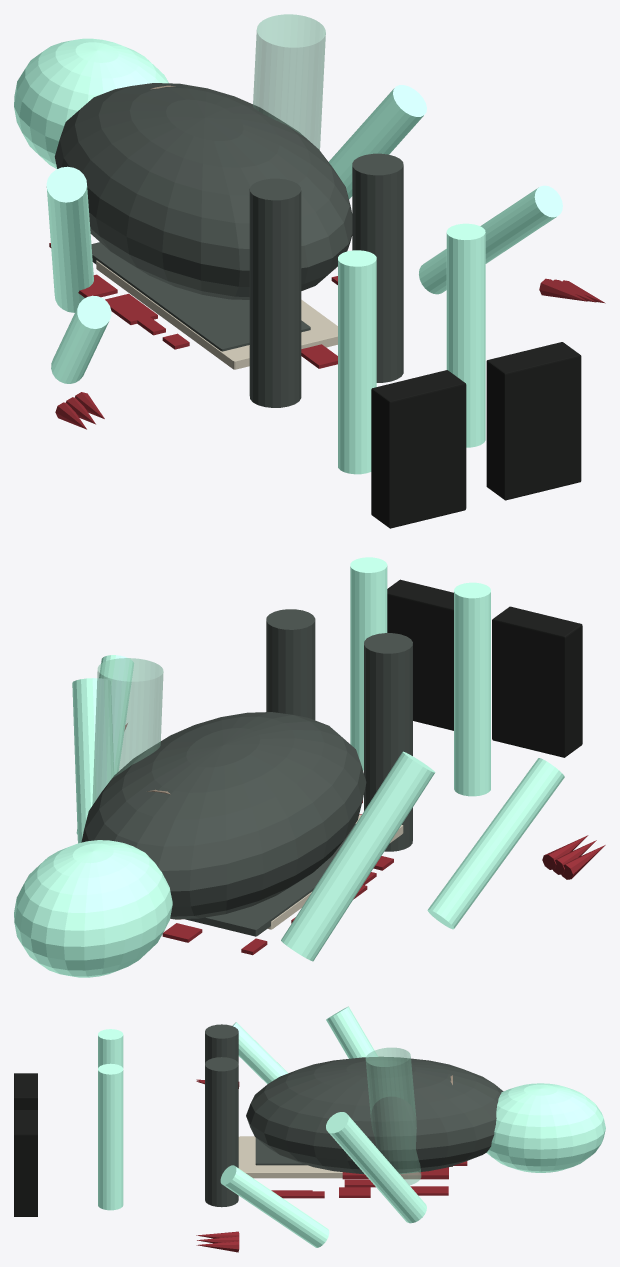
The model's file is dz_blender_lab.glb.
3 views of the same model, one above another, from view 1: azimuth 30°, elevation 25°; view 2: azimuth 150°, elevation 25°; view 3: azimuth 270°, elevation 25° (orthographic). The views are drawn at different scales.
Visible parts, largest first — view 1: torso asymetrique, botte humide.001, botte humide, cuisse tissu.001, tete infectee, cuisse tissu, tibia expose, cuve dorsale verre, tibia expose.001, bras maigre.001, pan manteau dechire, avant bras griffe (+4 smaller); view 2: torso asymetrique, tete infectee, botte humide.001, bras maigre.001, tibia expose, cuisse tissu.001, cuve dorsale verre, botte humide, avant bras griffe.001, cuisse tissu, bras maigre, tibia expose.001 (+2 smaller); view 3: torso asymetrique, tete infectee, cuve dorsale verre, cuisse tissu, tibia expose.001, bras maigre, avant bras griffe, botte humide, blouse hopital dechiree, bras maigre.001, avant bras griffe.001, cuisse tissu.001 (+6 smaller).
Part boxes in pixels (bbox=[...]): torso asymetrique: bbox=[54, 83, 352, 299]; botte humide.001: bbox=[371, 370, 466, 528]; botte humide: bbox=[486, 342, 581, 500]; cuisse tissu.001: bbox=[249, 178, 301, 407]; tete infectee: bbox=[14, 38, 168, 168]; cuisse tissu: bbox=[352, 153, 403, 382]; tibia expose: bbox=[338, 250, 376, 474]; cuve dorsale verre: bbox=[253, 14, 325, 150]; tibia expose.001: bbox=[446, 223, 485, 447]; bras maigre.001: bbox=[46, 166, 93, 312]; pan manteau dechire: bbox=[91, 242, 310, 351]; avant bras griffe: bbox=[419, 185, 562, 294]; torso asymetrique: bbox=[81, 712, 366, 919]; tete infectee: bbox=[14, 840, 172, 977]; botte humide.001: bbox=[492, 606, 582, 757]; bras maigre.001: bbox=[281, 751, 435, 961]; tibia expose: bbox=[454, 582, 490, 796]; cuisse tissu.001: bbox=[364, 633, 412, 851]; cuve dorsale verre: bbox=[92, 658, 163, 804]; botte humide: bbox=[387, 579, 453, 730]; avant bras griffe.001: bbox=[427, 758, 564, 929]; cuisse tissu: bbox=[266, 609, 315, 719]; bras maigre: bbox=[72, 678, 113, 843]; tibia expose.001: bbox=[350, 557, 387, 770]; torso asymetrique: bbox=[246, 1057, 503, 1174]; tete infectee: bbox=[486, 1083, 605, 1172]; cuve dorsale verre: bbox=[365, 1047, 421, 1185]; cuisse tissu: bbox=[205, 1057, 238, 1207]; tibia expose.001: bbox=[98, 1063, 123, 1210]; bras maigre: bbox=[326, 1112, 426, 1223]; avant bras griffe: bbox=[220, 1165, 329, 1247]; botte humide: bbox=[14, 1110, 37, 1216]; blouse hopital dechiree: bbox=[238, 1136, 342, 1178]; bras maigre.001: bbox=[326, 1006, 377, 1058]; avant bras griffe.001: bbox=[232, 1022, 287, 1083]; cuisse tissu.001: bbox=[205, 1024, 238, 1063].
Size of the model in its own units: 1.81 by 0.8246 by 2.74.
